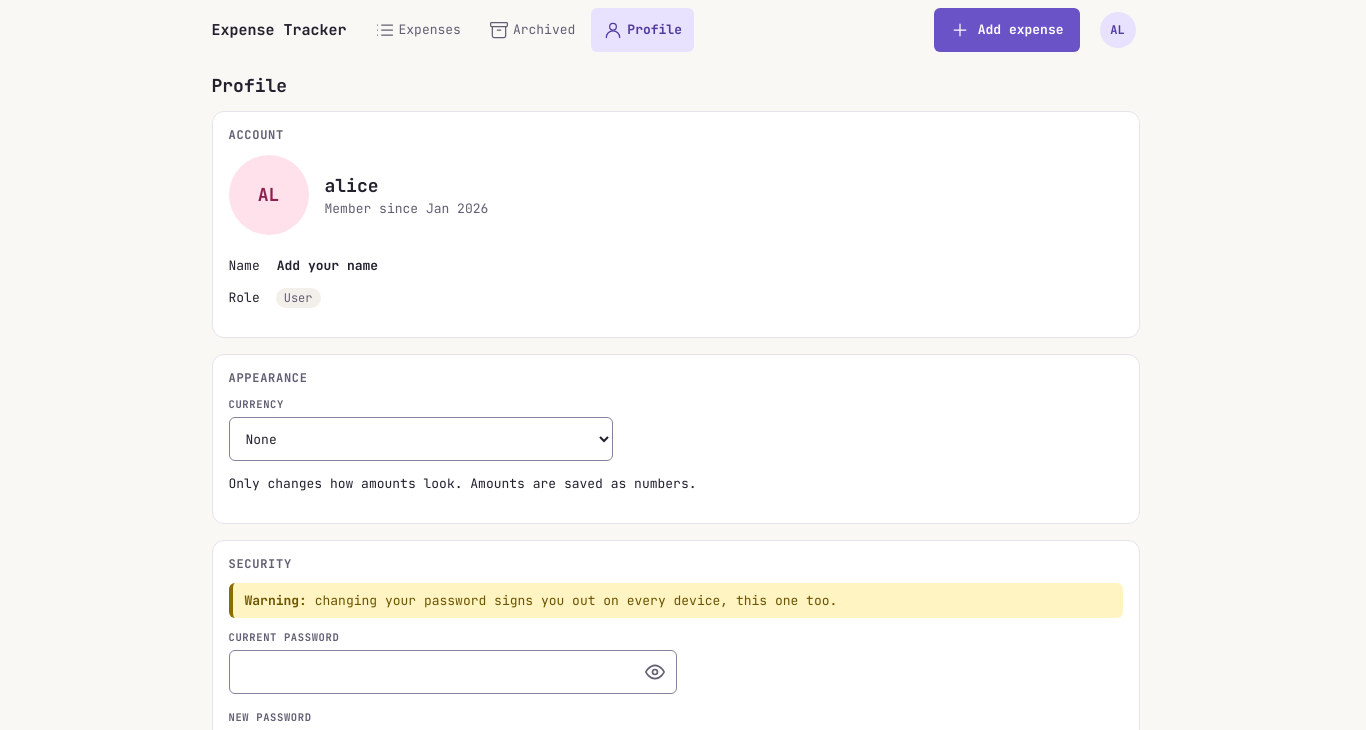
Test case: display name › adds a name, saves it trimmed and changes the initials
Expected: the heading "Profile" is shown, [212,74,287,97]
Click the button "Add your name": {"x": 327, "y": 266} [264,248,391,284]
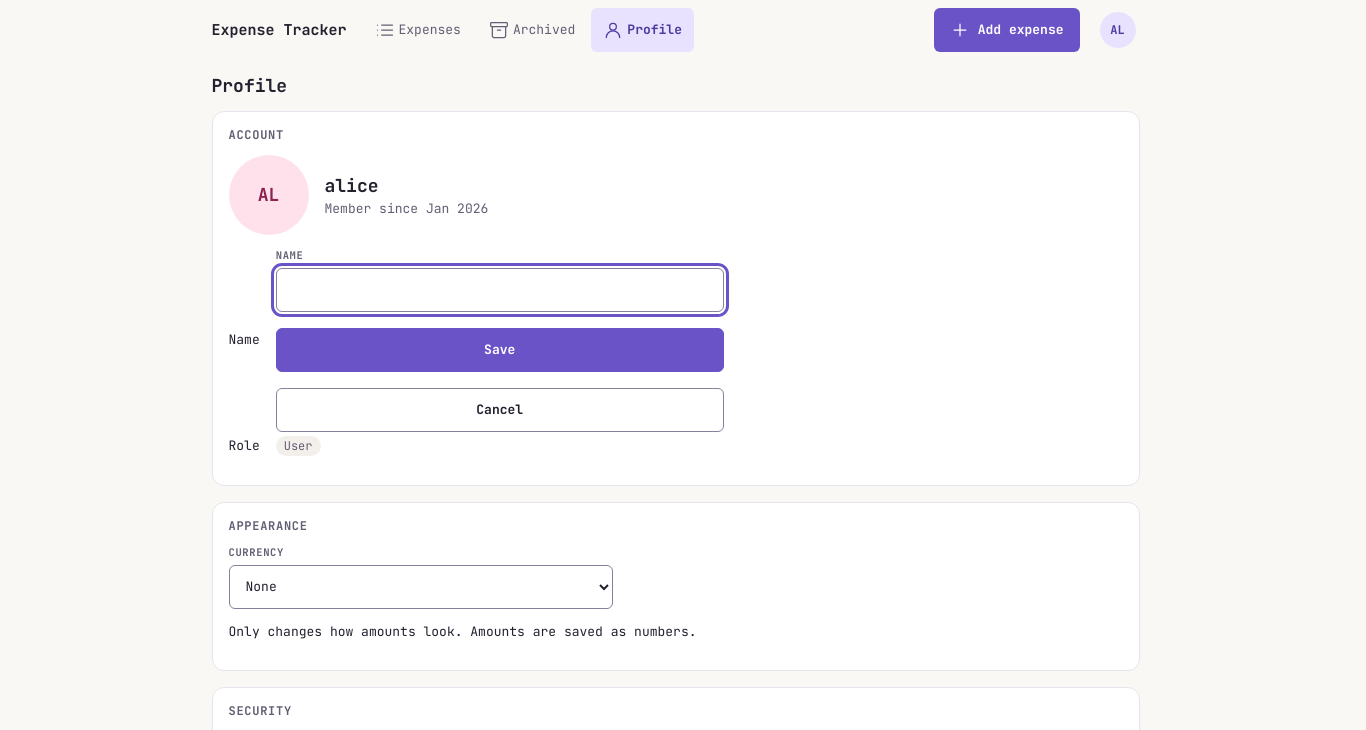
In the field labelled "Name": {"x": 500, "y": 290} [276,268,724,312], type "  Alice Smith "
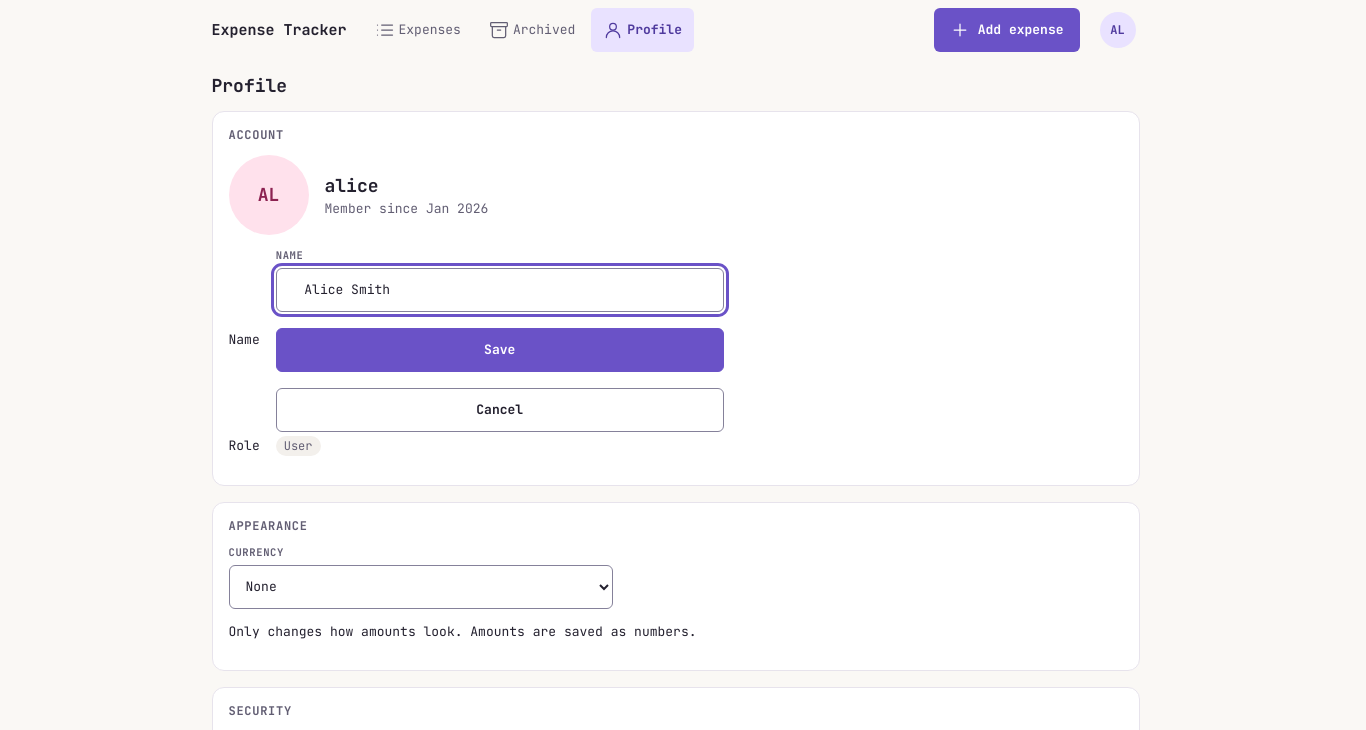
Click the button "Save": {"x": 500, "y": 350} [276,328,724,372]
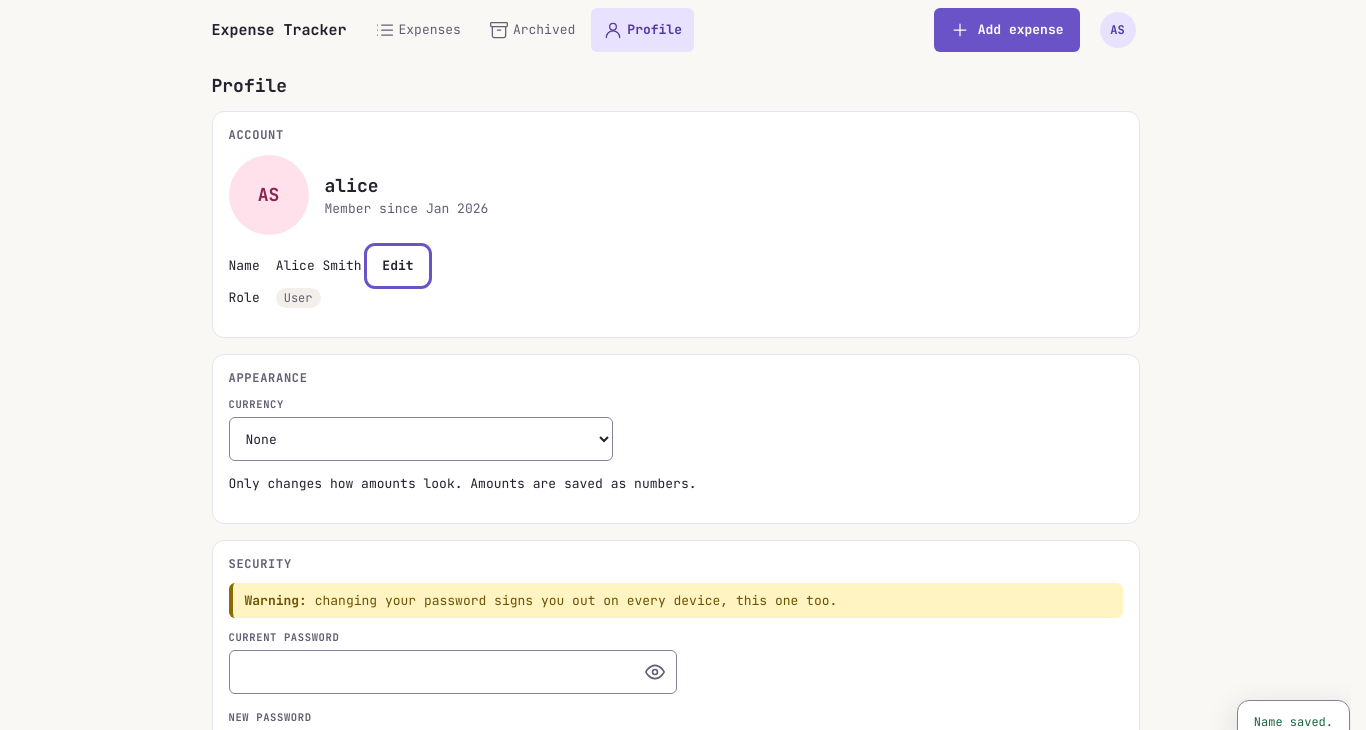
Expected: the button "Edit" is shown, [369,248,426,284]
Expected: the text "Alice Smith" is shown, [276,257,369,274]
